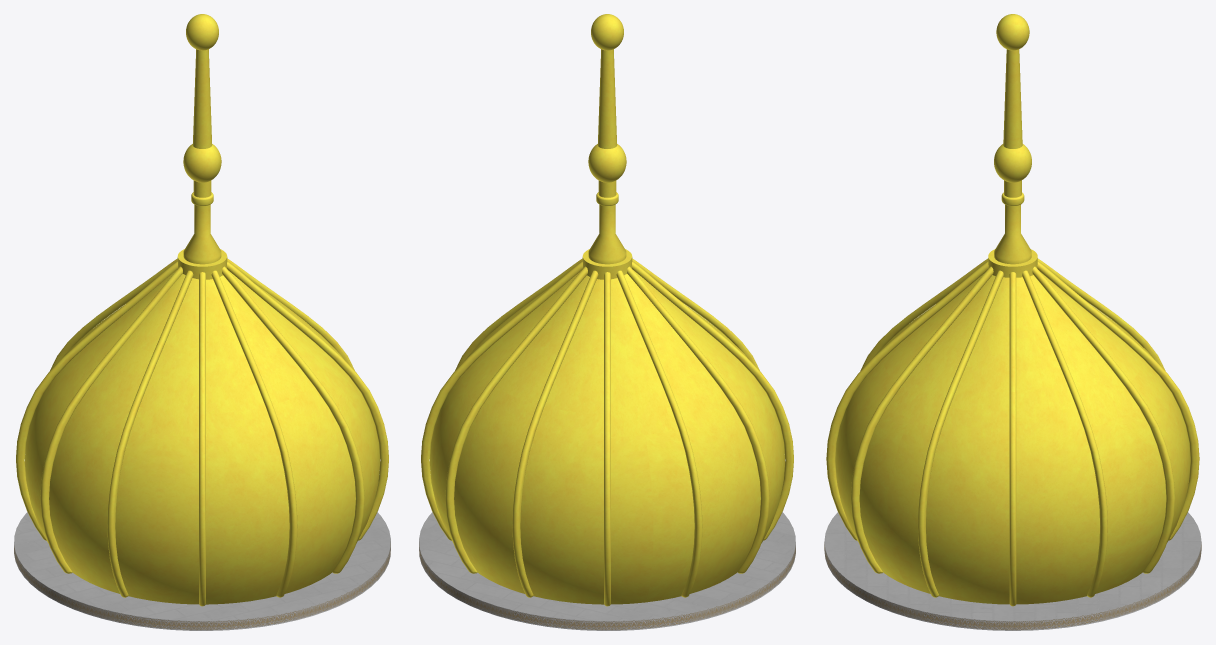
File: SM_roof.glb
The picture shows the model from 3 angles, left to right: view 1: azimuth 30°, elevation 25°; view 2: azimuth 150°, elevation 25°; view 3: azimuth 270°, elevation 25°; orthographic projection.
Visible parts, largest first — view 1: SM_roof; view 2: SM_roof; view 3: SM_roof.
Part boxes in pixels (left/top/right/bottom): SM_roof: left=14, top=14, right=390, bottom=630; SM_roof: left=419, top=14, right=795, bottom=630; SM_roof: left=824, top=14, right=1201, bottom=630.
Size of the model in its own units: 4.83 by 7.58 by 4.83.
Materials: 3 (3 with a texture image).
